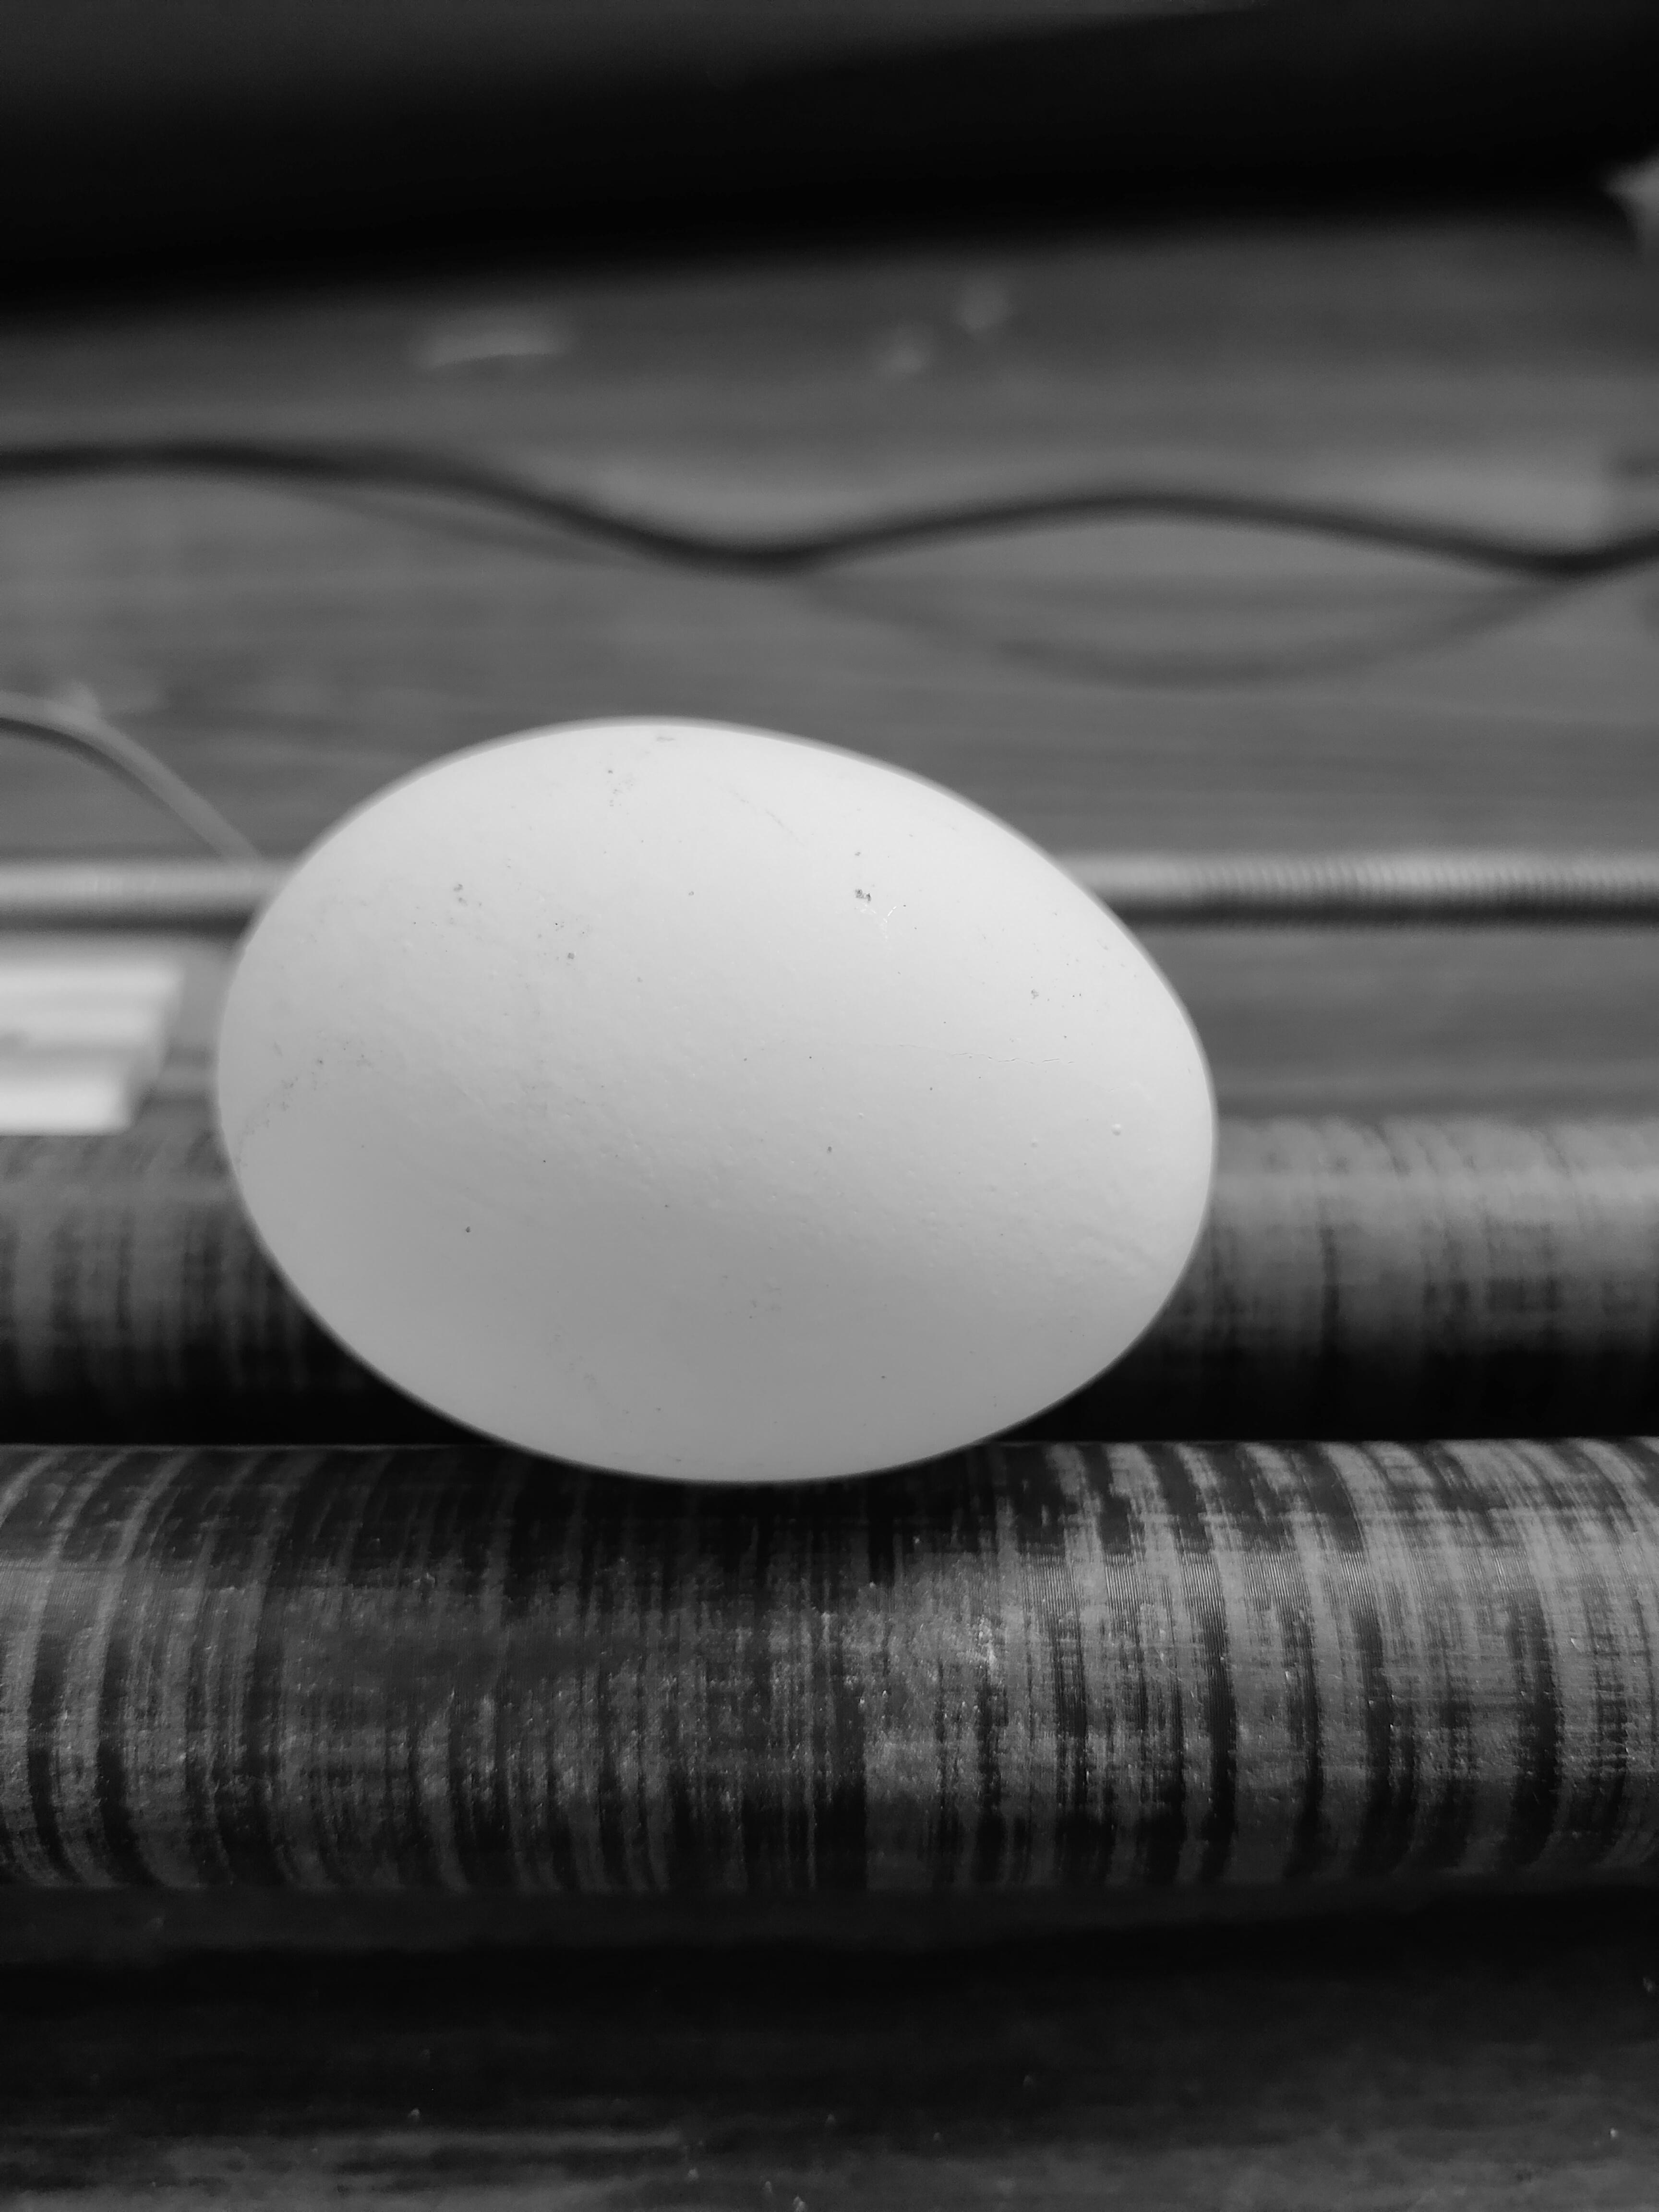telur: (167, 688, 1255, 1503)
